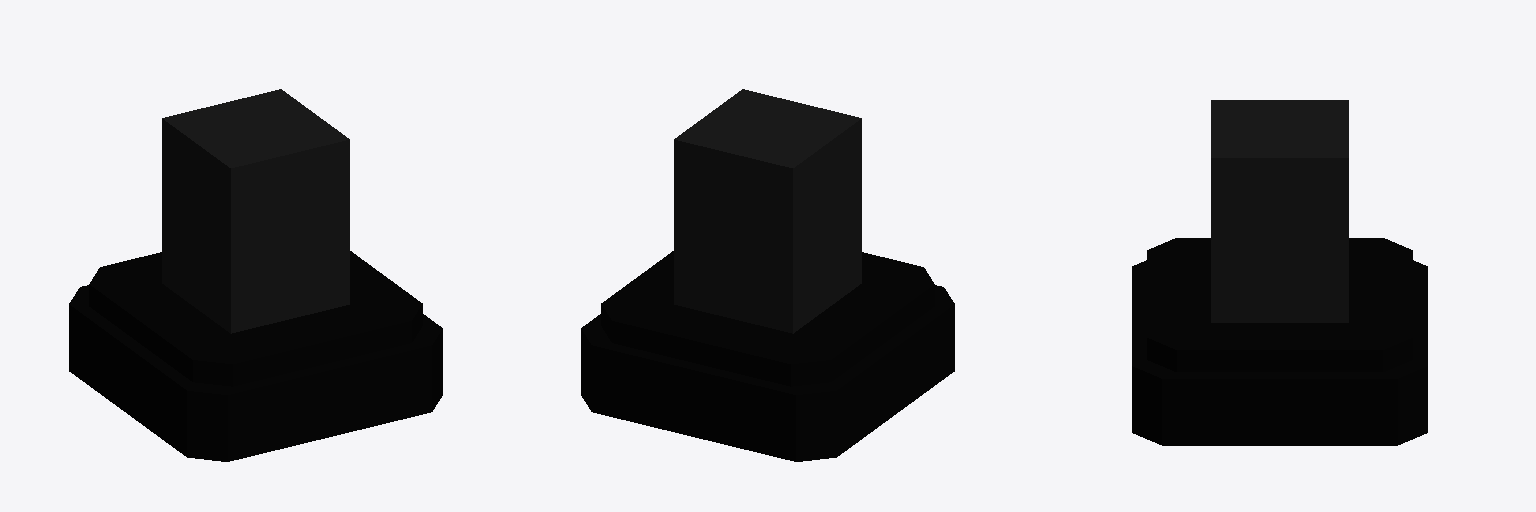
Rendered from Detacher.obj.
3 views of the same model, side by side, from view 1: azimuth 30°, elevation 25°; view 2: azimuth 150°, elevation 25°; view 3: azimuth 270°, elevation 25° (orthographic).
Visible parts, largest first — view 1: Handle1, Thingy1; view 2: Handle1, Thingy1; view 3: Handle1, Thingy1.
Part boxes in pixels (x1,y1,x2,y2): Handle1: (69,251,442,461); Thingy1: (162,89,349,333); Handle1: (581,251,954,461); Thingy1: (674,89,861,333); Handle1: (1132,238,1427,445); Thingy1: (1211,100,1348,322).
Bounding box in the file's own units: 0.6 × 0.57 × 0.6.